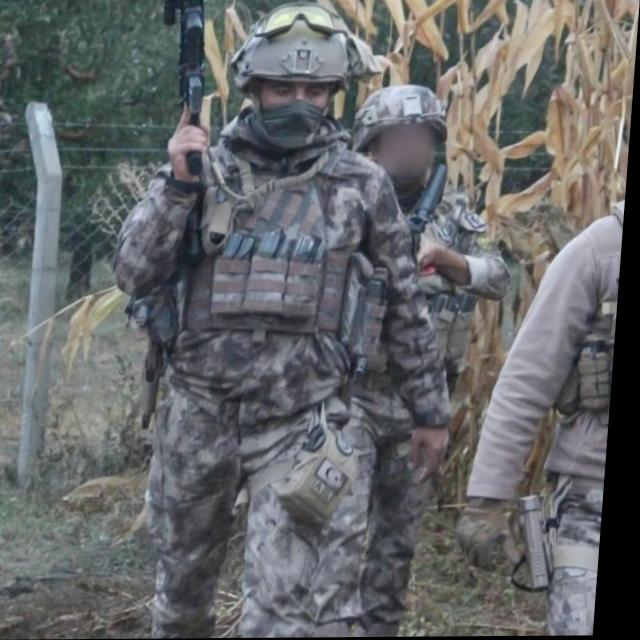poh_personel: (94, 0, 484, 639), (320, 82, 527, 638)
